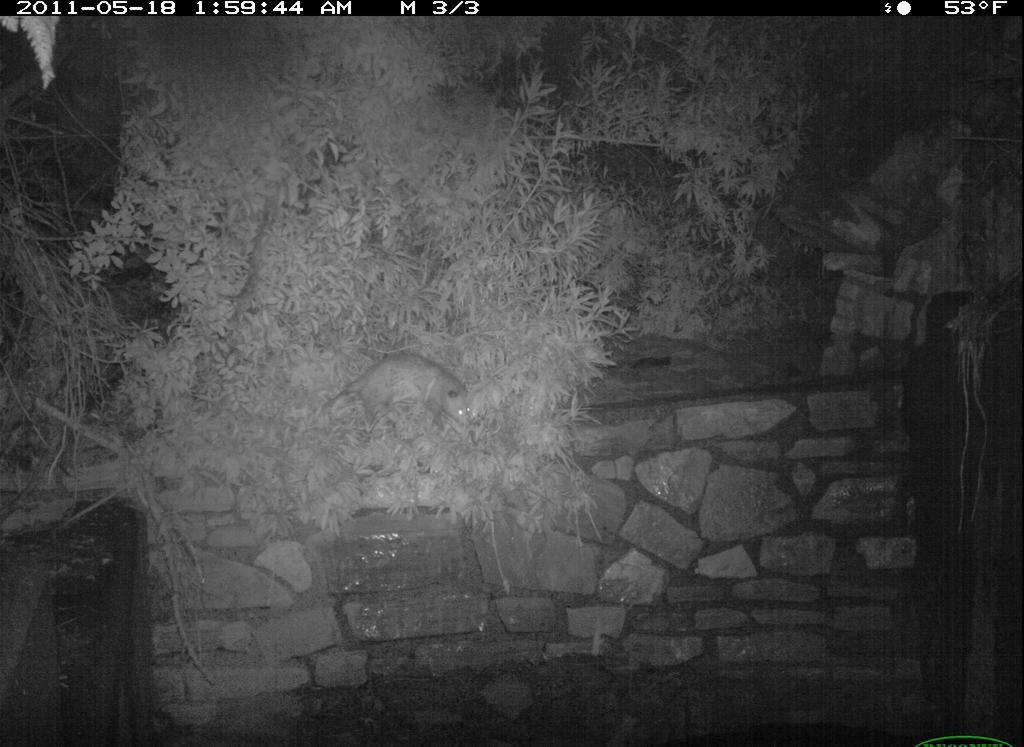opossum: (323, 356, 481, 443)
